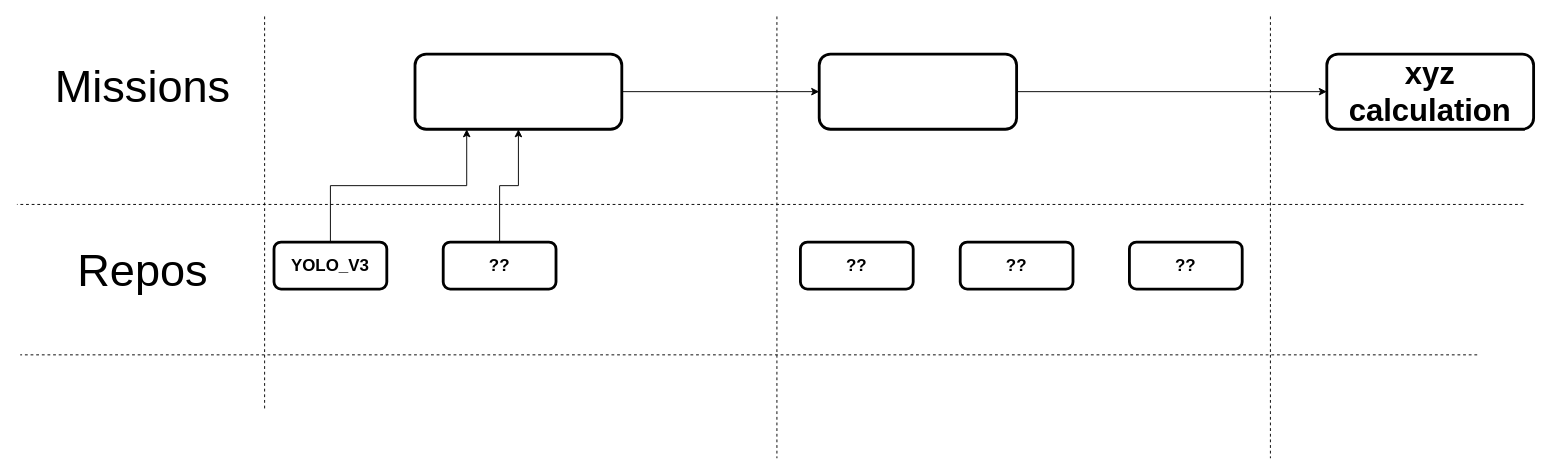
Image size: 1551x476. Some labels were removed from this diagram. Each missing label, with the box of its shape:
Classification: (817, 52, 1018, 130)
Detection: (413, 52, 623, 130)
